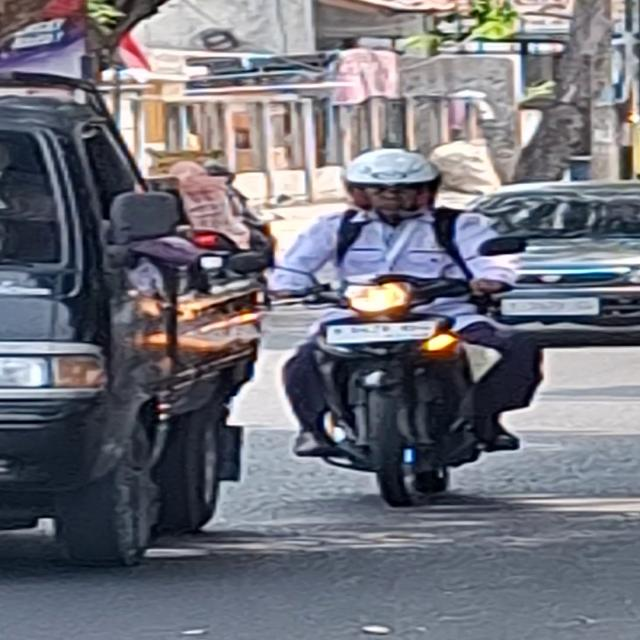WithHelmet: (263, 146, 545, 459)
